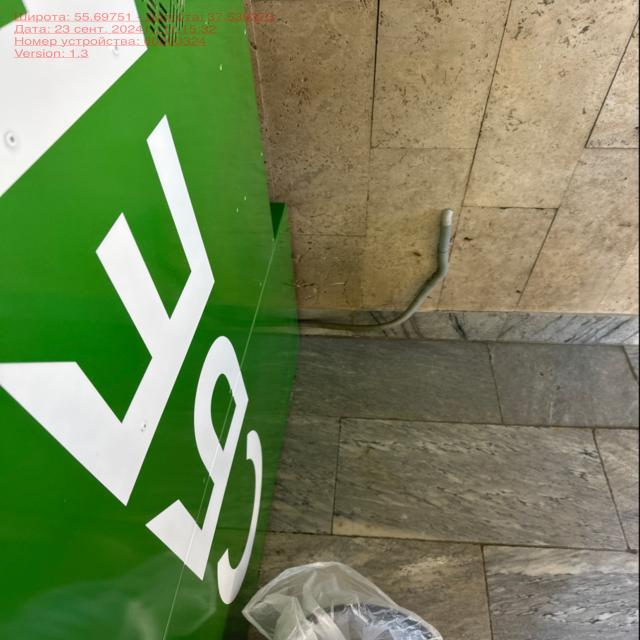bank: (0, 2, 302, 640)
